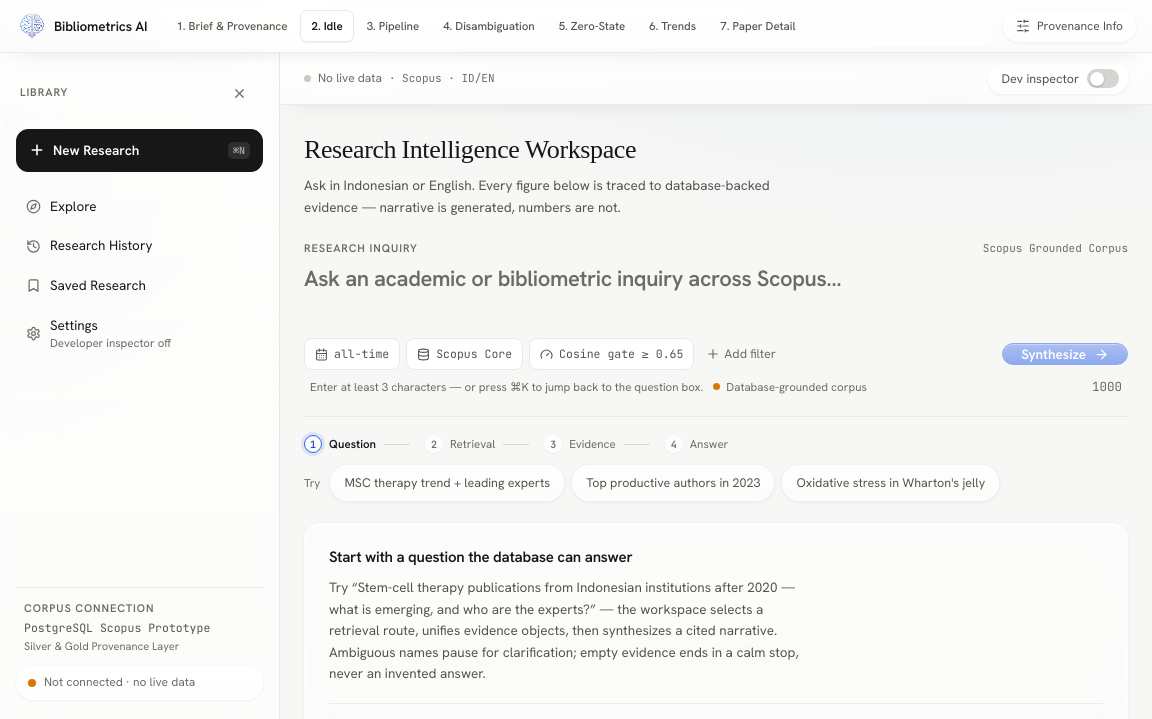
Test: P0-A: a valid empty result stays an empty result › 200 not_found renders the zero-state, not an error
Type "MSC therapy trend in Indonesia after 2020?" into the text box named "research question" at point(716, 293), box [304,265,1128,321]
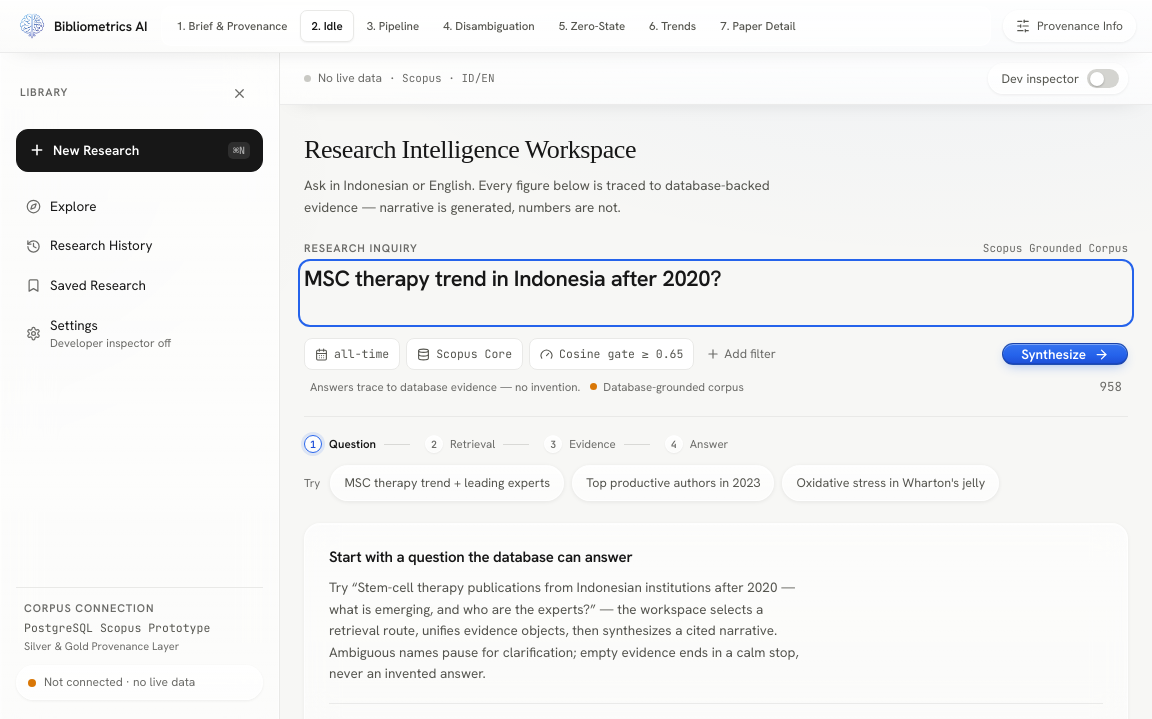
Click the button "Synthesize" at point(1065, 354), box [1002,342,1128,365]
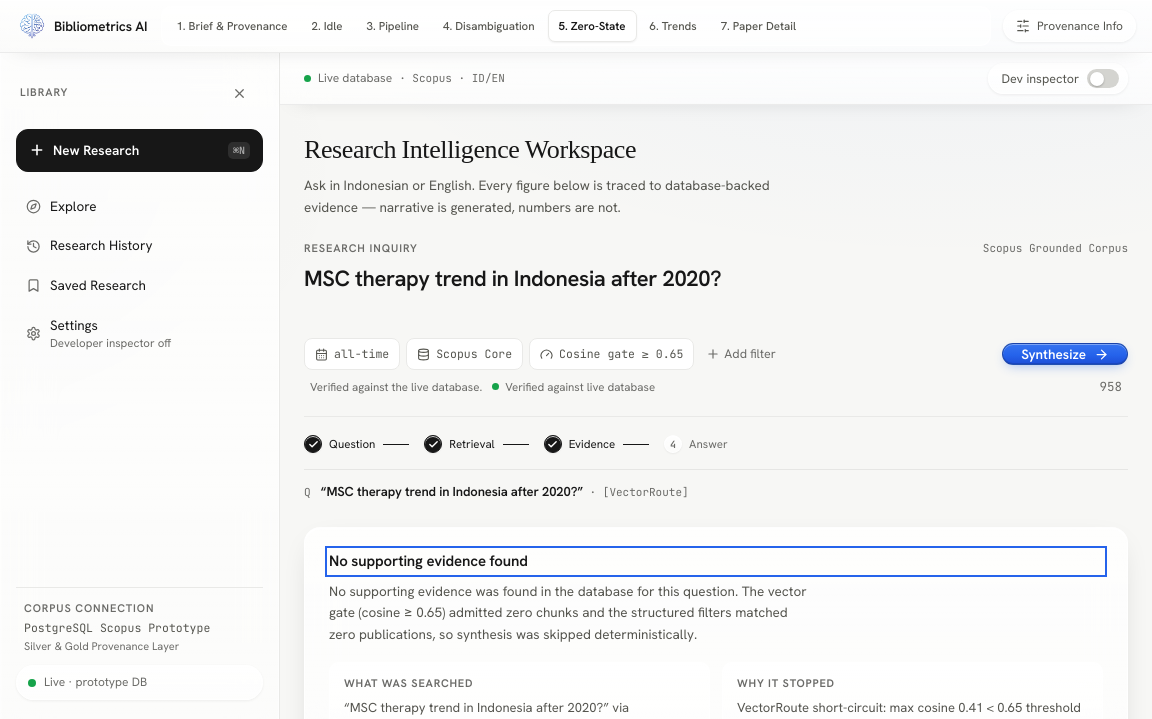
Result: the heading "No supporting evidence found" is shown at [329,550,528,570]
